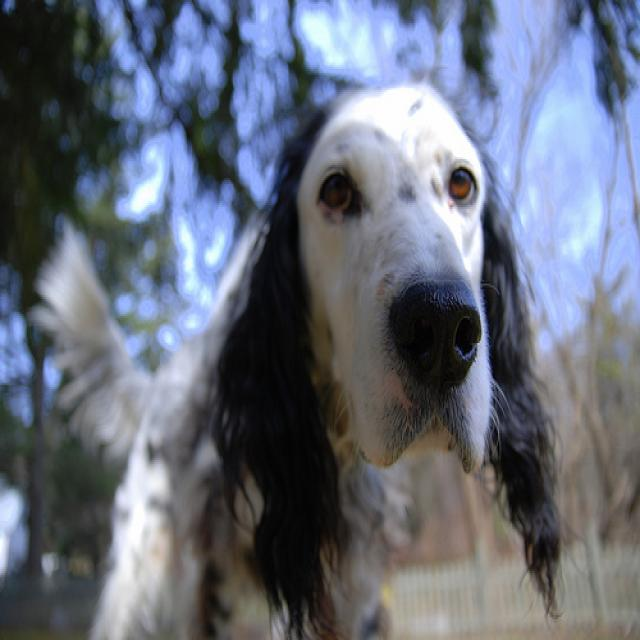dog-english_setter: (24, 59, 571, 636)
